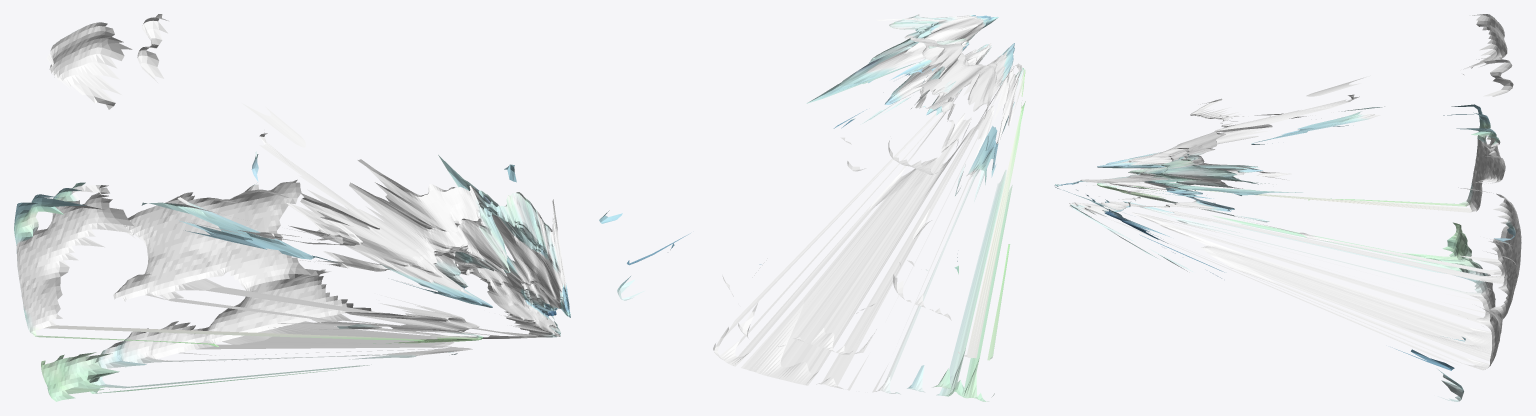
The picture shows the model from 3 angles, left to right: view 1: azimuth 30°, elevation 25°; view 2: azimuth 150°, elevation 25°; view 3: azimuth 270°, elevation 25°; orthographic projection. The views are drawn at different scales.
Parts seen in each view (by area): view 1: defaultobject; view 2: defaultobject; view 3: defaultobject.
Part boxes in pixels (x1,y1,x2,y2): defaultobject: (14,14,570,401); defaultobject: (599,14,1025,401); defaultobject: (1054,14,1521,401).
Bounding box in the file's own units: 39.97 × 26.8 × 44.09.
Materials: 1 (1 with a texture image).
